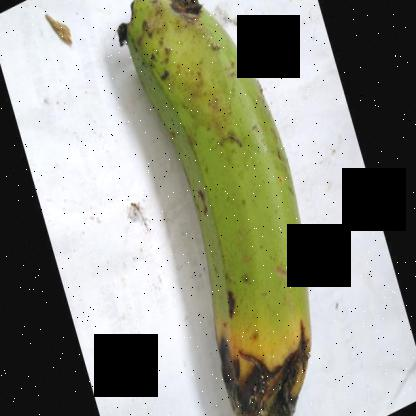rotten: (201, 279, 324, 415)
unripe: (115, 1, 319, 308)
